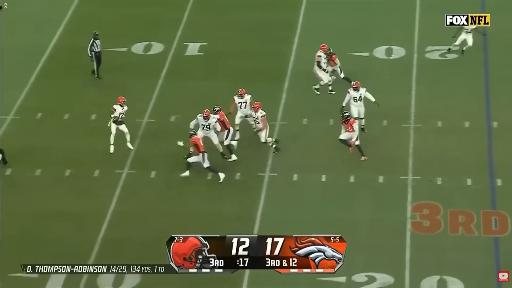Helmet: (251, 102, 262, 113), (341, 111, 351, 122), (351, 81, 361, 91), (237, 88, 246, 97), (202, 110, 210, 120), (117, 97, 126, 105), (212, 106, 221, 114), (189, 130, 197, 138), (320, 44, 328, 52), (327, 48, 333, 54)
Jersey: (343, 88, 375, 107), (196, 114, 219, 133), (234, 94, 251, 114), (112, 105, 127, 125), (216, 112, 230, 131), (252, 110, 266, 129), (190, 136, 204, 154), (315, 51, 327, 68), (327, 53, 340, 67), (342, 119, 355, 132), (463, 26, 476, 33)
Player: (180, 130, 225, 182), (190, 110, 228, 158), (342, 82, 378, 131), (230, 89, 255, 148), (252, 102, 279, 153), (212, 106, 237, 161), (339, 111, 367, 160), (109, 97, 133, 153), (328, 48, 352, 94), (447, 26, 481, 55), (313, 44, 331, 94)
